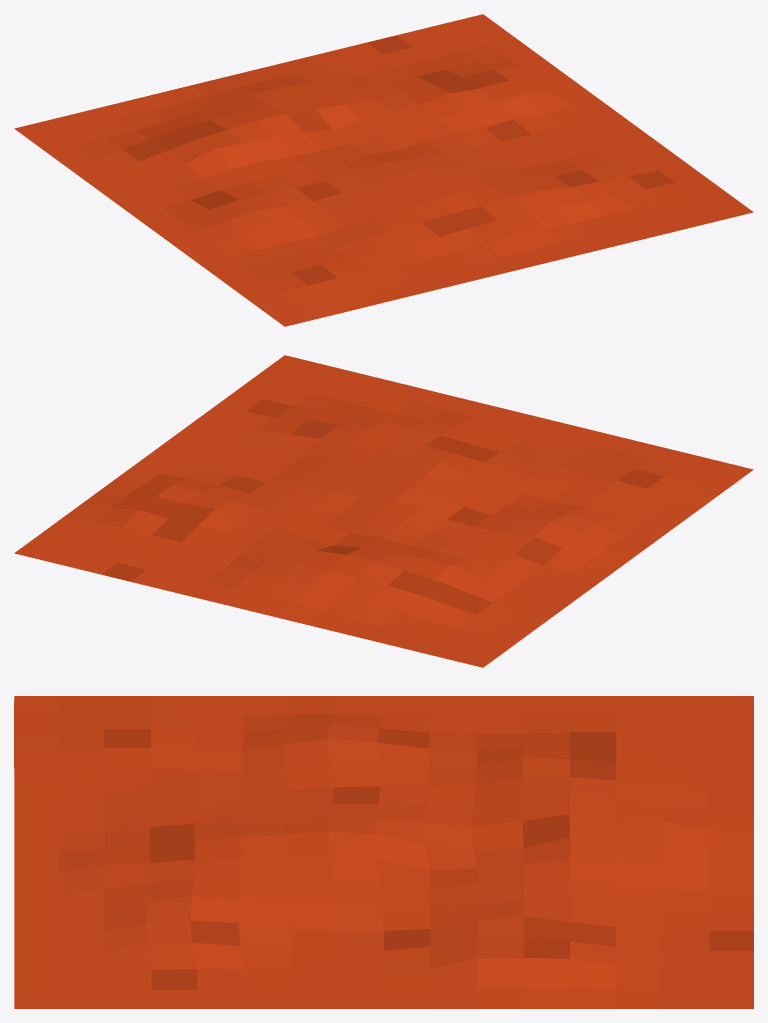
File: Sand1.FBX
3 renders of one model, top to bottom at view 1: azimuth 30°, elevation 25°; view 2: azimuth 150°, elevation 25°; view 3: azimuth 270°, elevation 25°, orthographic. The views are drawn at different scales.
Parts seen in each view (by area): view 1: Terrain.000; view 2: Terrain.000; view 3: Terrain.000.
Part boxes in pixels (x1,y1,x2,y2): Terrain.000: (14,14,753,326); Terrain.000: (14,355,753,667); Terrain.000: (14,696,753,1008).
Size of the model in its own units: 800 by 800 by 23.83.
